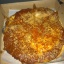pizza: (5, 7, 61, 63)
